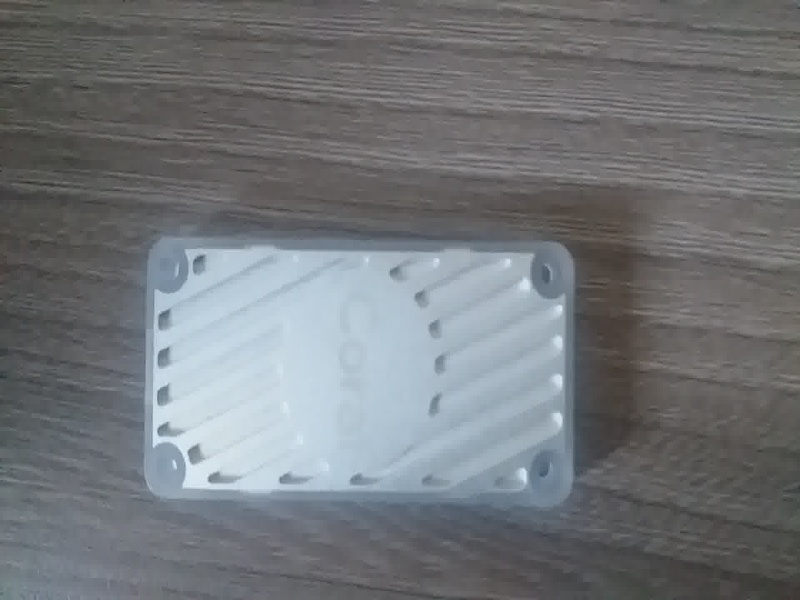coral: (133, 227, 589, 513)
